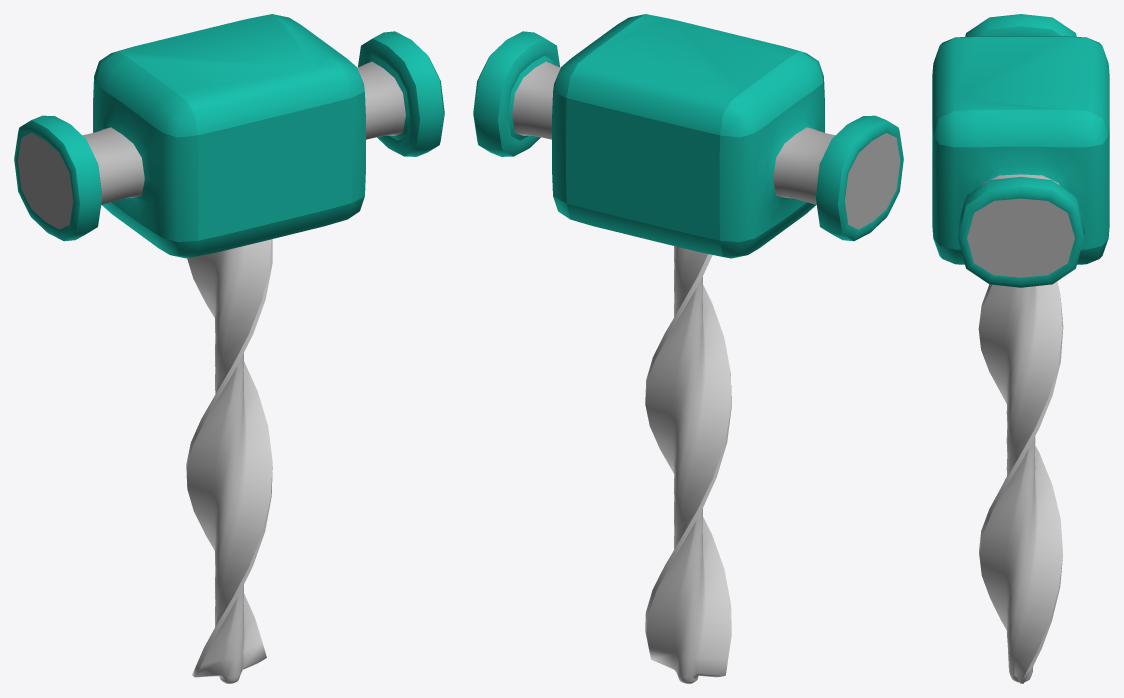
Rendered from drill.fbx.
3 views of the same model, side by side, from view 1: azimuth 30°, elevation 25°; view 2: azimuth 150°, elevation 25°; view 3: azimuth 270°, elevation 25° (orthographic). The views are drawn at different scales.
Parts seen in each view (by area): view 1: drill top, drill; view 2: drill top, drill; view 3: drill top, drill.
Boxes of the visible parts, <box> form: drill top: <box>14,14,444,258</box>; drill: <box>186,239,272,683</box>; drill top: <box>473,14,903,258</box>; drill: <box>645,246,731,683</box>; drill top: <box>932,14,1109,287</box>; drill: <box>978,281,1063,683</box>.
Size of the model in its own units: 393 by 168 by 634.
Materials: 2 (1 with a texture image).
